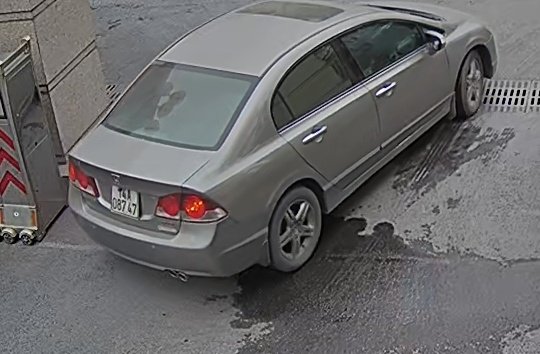vehicle plate: (108, 179, 141, 220)
